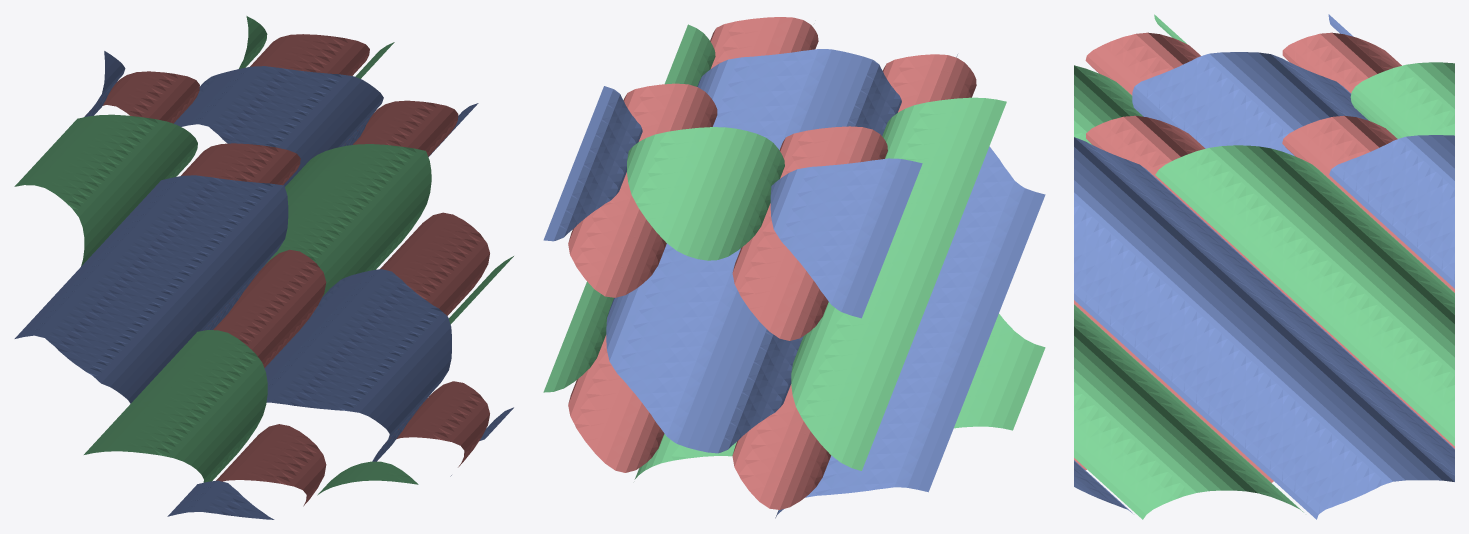
File: 884cylinders.glb
3 renders of one model, left to right at view 1: azimuth 30°, elevation 25°; view 2: azimuth 150°, elevation 25°; view 3: azimuth 270°, elevation 25°, orthographic. The views are drawn at different scales.
Visible parts, largest first — view 1: block_2, block_1, block_0; view 2: block_2, block_1, block_0; view 3: block_2, block_1, block_0.
Boxes of the visible parts, x1,y1,x2,y2 form: block_2: (14, 51, 513, 519); block_1: (14, 16, 513, 495); block_0: (86, 34, 489, 506); block_2: (543, 49, 1045, 518); block_1: (543, 24, 1045, 479); block_0: (568, 17, 976, 509); block_2: (1074, 14, 1454, 519); block_1: (1074, 14, 1454, 519); block_0: (1074, 32, 1454, 482).
Size of the model in its own units: 31 by 31 by 31.
